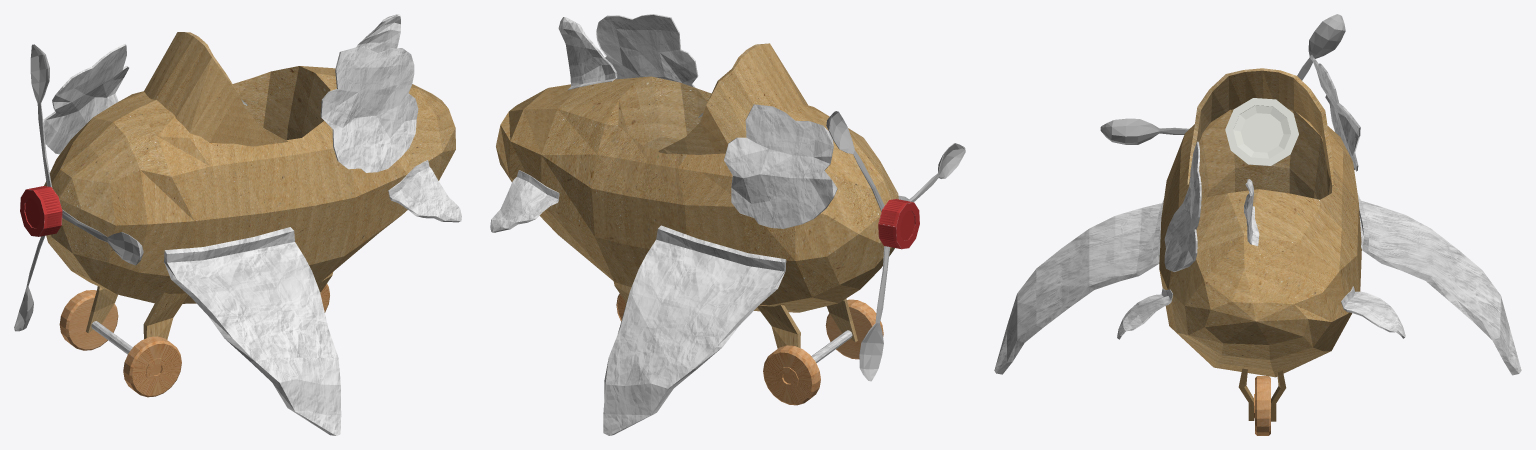
Rendered from Vliegmachine.fbx.
3 renders of one model, left to right at view 1: azimuth 30°, elevation 25°; view 2: azimuth 150°, elevation 25°; view 3: azimuth 270°, elevation 25°, orthographic.
Parts seen in each view (by area): view 1: vliegzeug1; view 2: vliegzeug1; view 3: vliegzeug1.
Part boxes in pixels (<box>): vliegzeug1: <box>14,14,461,435</box>; vliegzeug1: <box>490,14,965,435</box>; vliegzeug1: <box>994,14,1521,435</box>.
Size of the model in its own units: 15.57 by 11.44 by 17.43.
7 materials, 5 textured.
